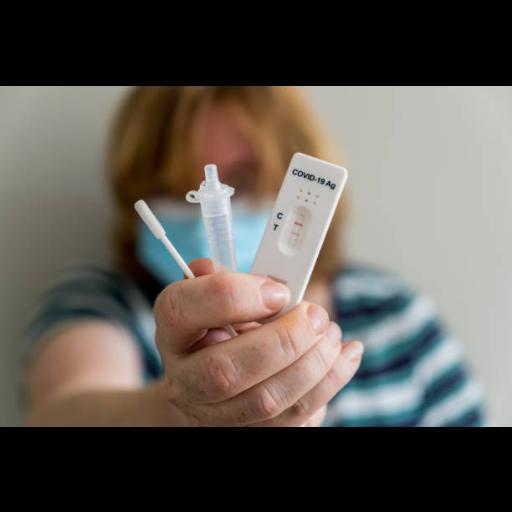Pos: (246, 151, 348, 302)
